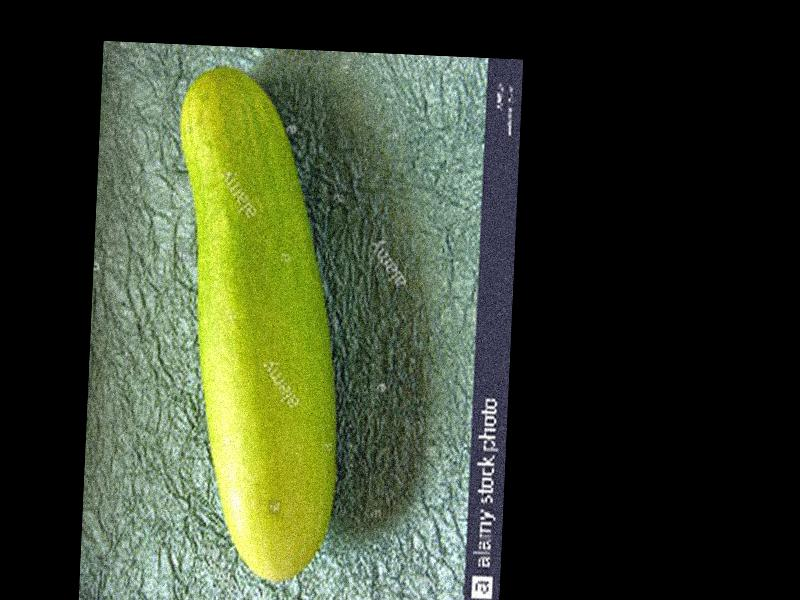Cucumber: (159, 63, 352, 584)
